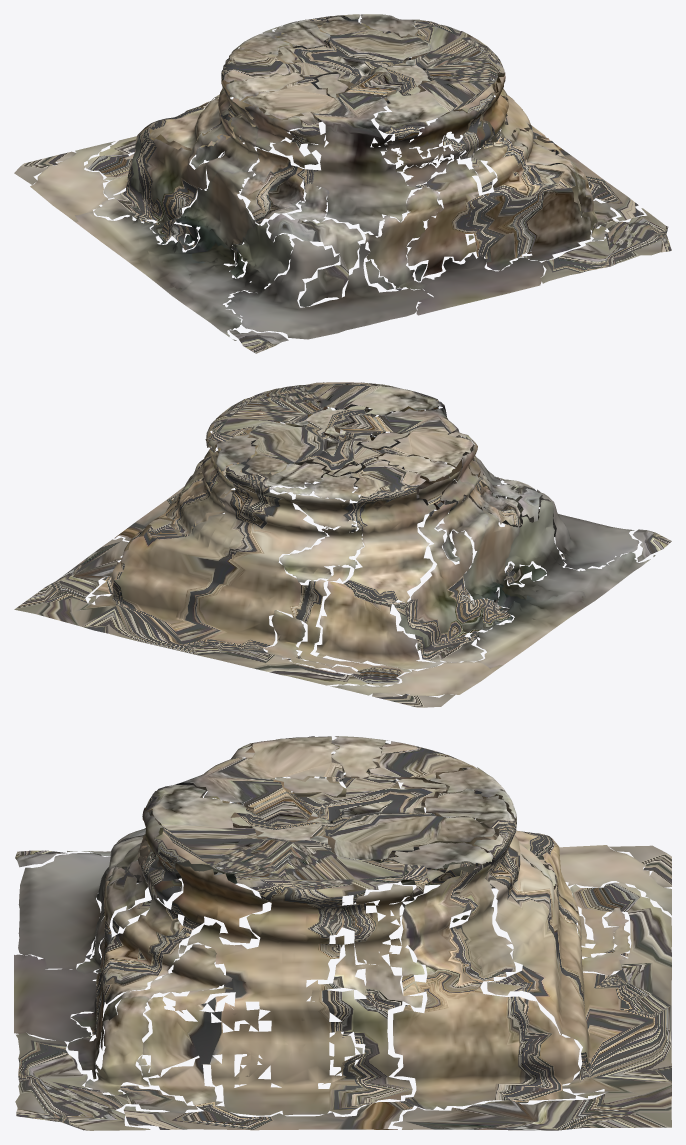
File: statue-plinth.lite.glb
The picture shows the model from 3 angles, top to bottom: view 1: azimuth 30°, elevation 25°; view 2: azimuth 150°, elevation 25°; view 3: azimuth 270°, elevation 25°; orthographic projection. The views are drawn at different scales.
Visible parts, largest first — view 1: Object_2; view 2: Object_2; view 3: Object_2.
Part boxes in pixels (x1,y1,x2,y2): Object_2: [14, 14, 671, 353]; Object_2: [14, 382, 671, 707]; Object_2: [14, 736, 671, 1130].
Bounding box in the file's own units: 1.86 × 0.5804 × 1.84.
Materials: 1 (1 with a texture image).
